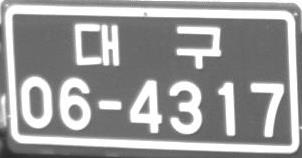0: (20, 74, 53, 128)
1: (212, 81, 244, 137)
3: (169, 80, 203, 135)
4: (128, 78, 162, 133)
6: (58, 76, 92, 131)
7: (249, 80, 286, 139)
대구_D: (74, 22, 220, 69)
